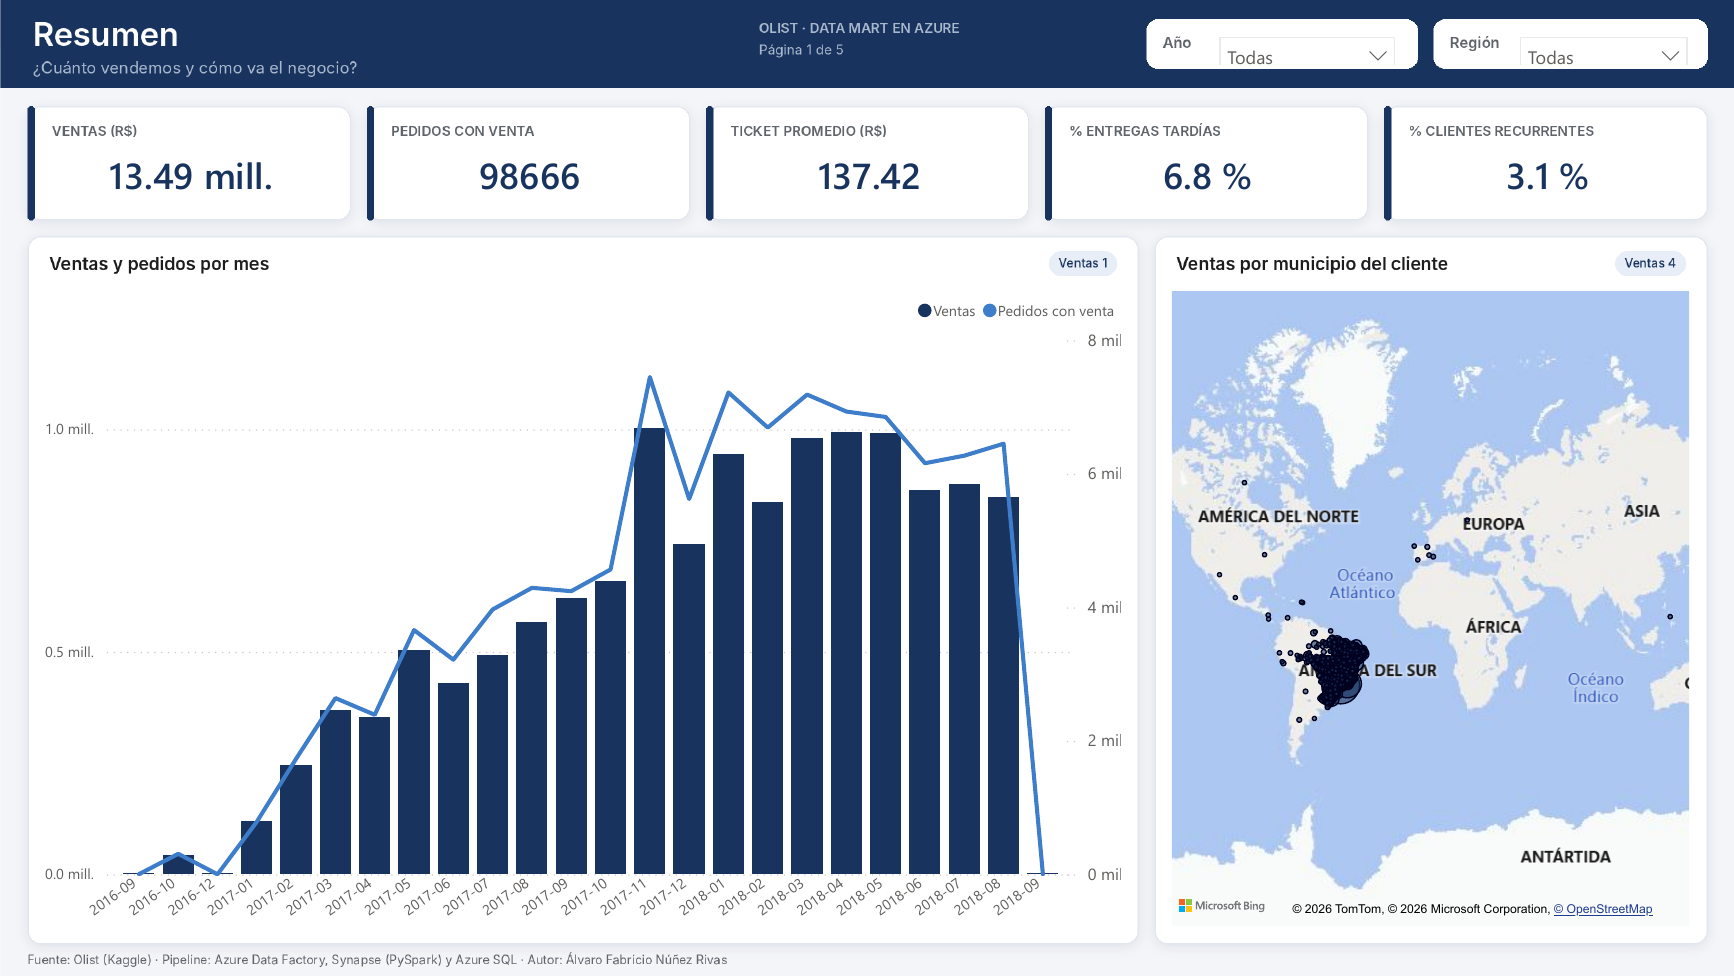

What the dashboard file says about the page in this screenshot:
{"tool":"powerbi","page":{"name":"Resumen","canvas":[1280,720],"ordinal":0},"visuals":[{"type":"slicer","fields":{"Values":["dim_fecha.anio"]},"box":[890,17,150,30],"z":0},{"type":"slicer","fields":{"Values":["dim_ubicacion.region"]},"box":[1112,17,144,30],"z":1},{"type":"card","fields":{"Values":["_Medidas.Ventas"]},"box":[28,100,226,60],"z":2},{"type":"card","fields":{"Values":["_Medidas.Pedidos con venta"]},"box":[278,100,226,60],"z":3},{"type":"card","fields":{"Values":["_Medidas.Ticket promedio"]},"box":[529,100,226,60],"z":4},{"type":"card","fields":{"Values":["_Medidas.% Entregas tardías"]},"box":[779,100,226,60],"z":5},{"type":"card","fields":{"Values":["_Medidas.% Clientes recurrentes"]},"box":[1030,100,226,60],"z":6},{"type":"lineClusteredColumnComboChart","fields":{"Category":["dim_fecha.anio_mes"],"Y":["_Medidas.Ventas"],"Y2":["_Medidas.Pedidos con venta"]},"box":[28,210,804,478],"z":7},{"type":"map","fields":{"Category":["dim_ubicacion.Lugar mapa"],"Size":["_Medidas.Ventas"]},"box":[860,210,392,478],"z":8}]}

Visuals, with their boxes in screenshot pixels (x1, y1, x2, y2), scaled from the page's 1280x720 canvas onto the 1734x976 screenshot:
slicer - dim_fecha.anio: box(1206, 23, 1409, 64)
slicer - dim_ubicacion.region: box(1506, 23, 1701, 64)
card - _Medidas.Ventas: box(38, 136, 344, 217)
card - _Medidas.Pedidos con venta: box(377, 136, 683, 217)
card - _Medidas.Ticket promedio: box(717, 136, 1023, 217)
card - _Medidas.% Entregas tardías: box(1055, 136, 1361, 217)
card - _Medidas.% Clientes recurrentes: box(1395, 136, 1701, 217)
lineClusteredColumnComboChart - dim_fecha.anio_mes x _Medidas.Ventas: box(38, 285, 1127, 933)
map - dim_ubicacion.Lugar mapa x _Medidas.Ventas: box(1165, 285, 1696, 933)
